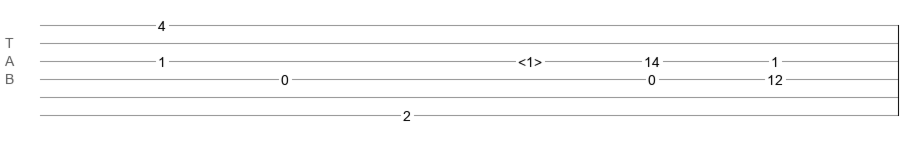0: (281, 72, 289, 82), (648, 72, 656, 82)
1: (158, 54, 166, 64), (771, 54, 779, 64)
12: (767, 72, 783, 82)
14: (644, 54, 660, 64)
2: (403, 108, 411, 118)
4: (158, 18, 166, 28)
harmonic: (518, 54, 542, 64)
